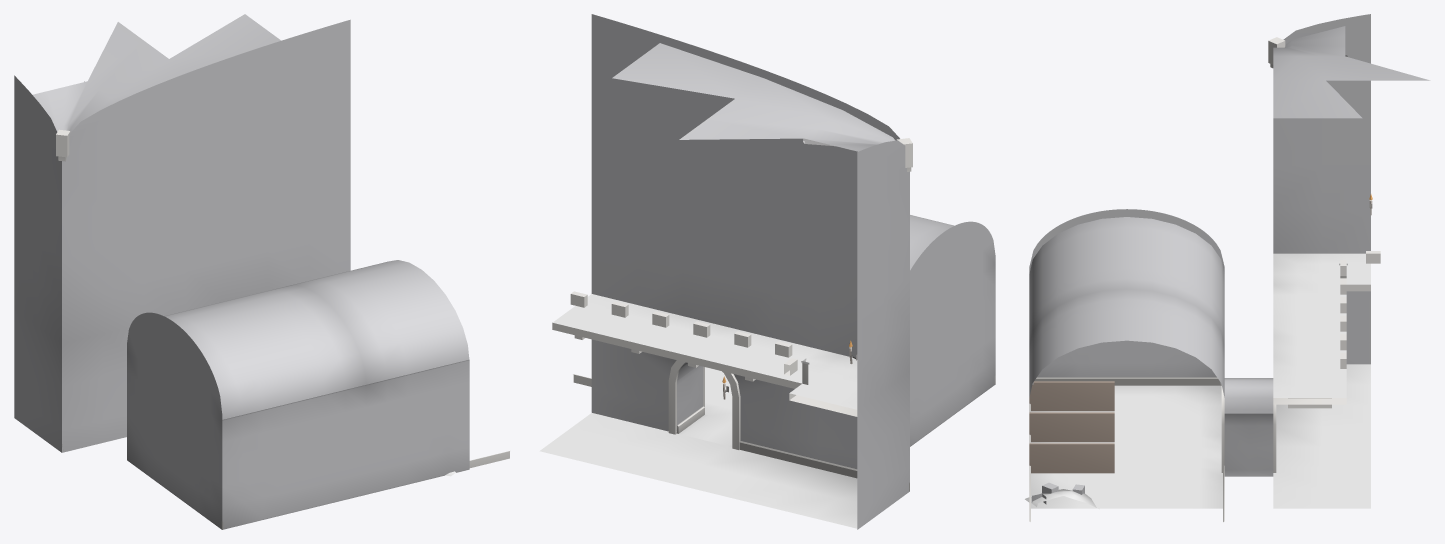
File: crypt_07_ar.glb
3 renders of one model, left to right at view 1: azimuth 30°, elevation 25°; view 2: azimuth 150°, elevation 25°; view 3: azimuth 270°, elevation 25°, orthographic. The views are drawn at different scales.
Parts seen in each view (by area): view 1: crypt_07_ar; view 2: crypt_07_ar; view 3: crypt_07_ar.
Boxes of the visible parts, bbox=[...] form: crypt_07_ar: bbox=[14, 14, 509, 529]; crypt_07_ar: bbox=[539, 14, 995, 529]; crypt_07_ar: bbox=[1025, 14, 1430, 521].
Bounding box in the file's own units: 16.21 × 17.07 × 16.65.
